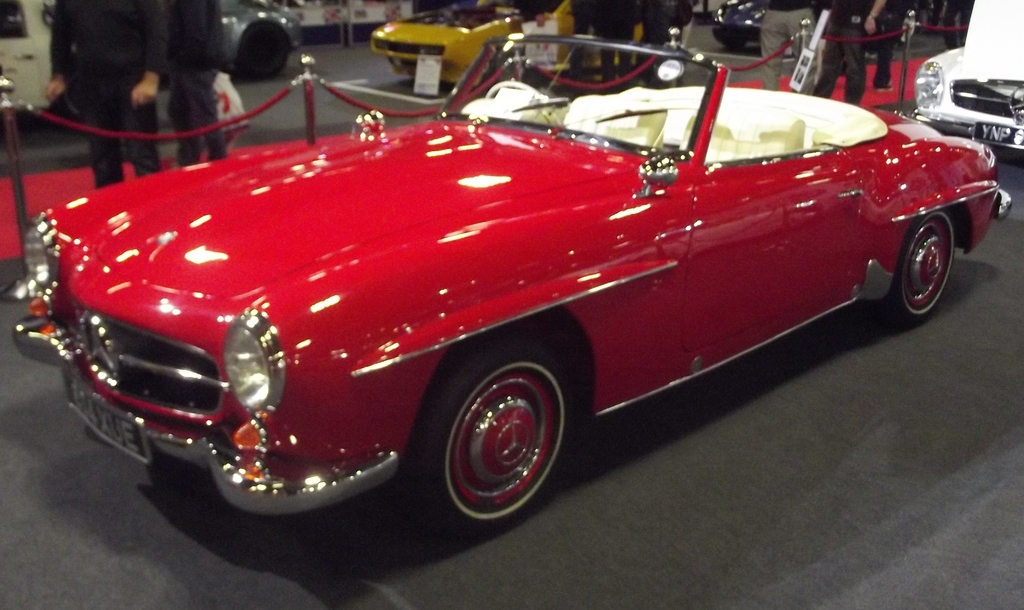Car: (0, 76, 976, 531), (366, 0, 647, 83), (908, 41, 1023, 151), (0, 0, 83, 115), (218, 0, 302, 81), (709, 0, 778, 52)
